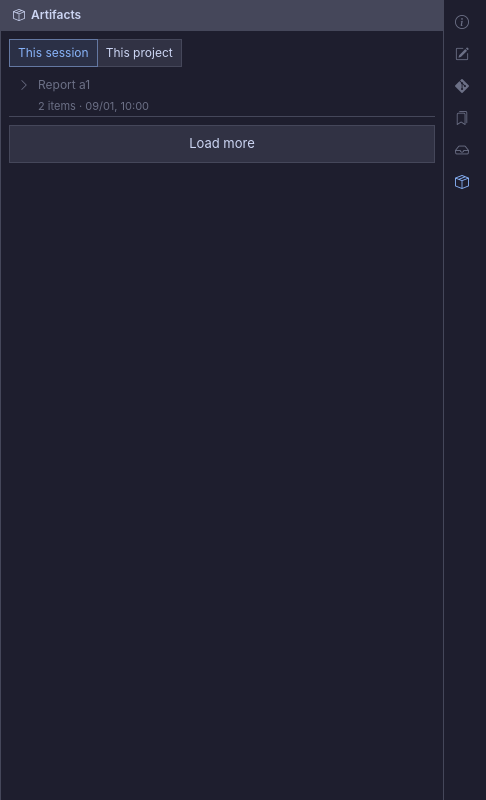
Test: uses the refreshed cursor when pagination overlaps resume: refresh-first
Expected: the text "Report a1" is shown, [38,77,90,92]
Click the button "Load more" at point(222, 144), box [9,124,435,162]
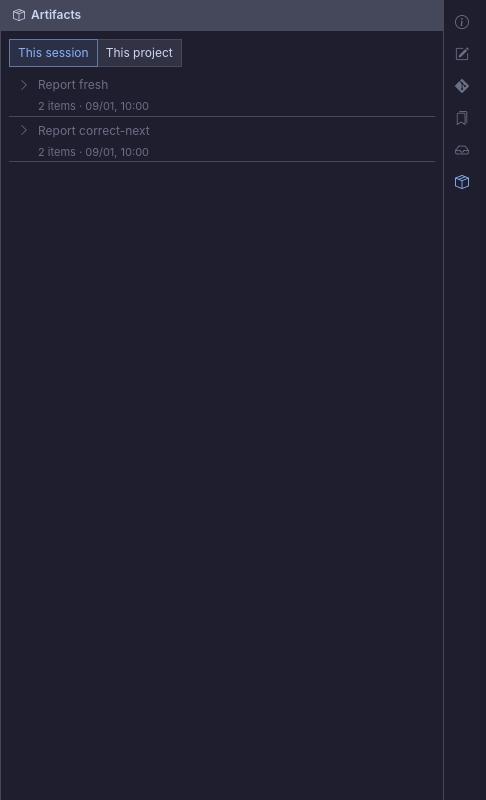
Result: the text "Report correct-next" is shown at [38,122,150,138]
Result: the button "Load more" is gone
